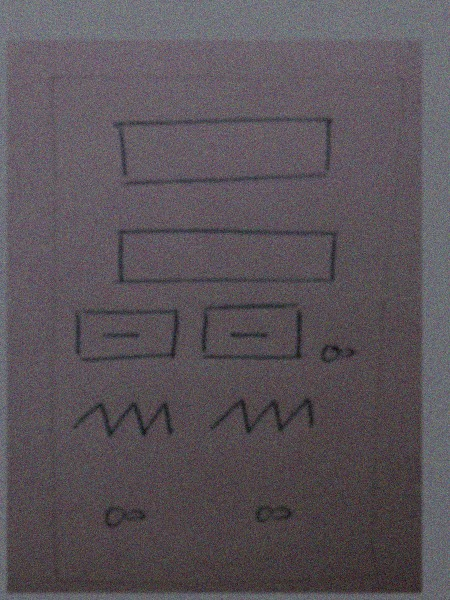button: (195, 302, 314, 367), (70, 303, 183, 366)
switch: (88, 495, 164, 535), (244, 498, 302, 538), (309, 337, 366, 372)
text: (199, 389, 329, 446), (70, 391, 180, 444)
text_input: (104, 113, 343, 190), (106, 219, 339, 292)
